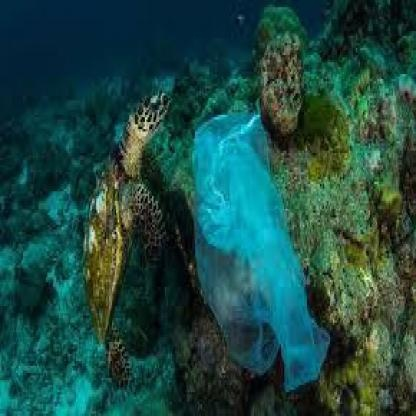pbag: (190, 110, 332, 399)
